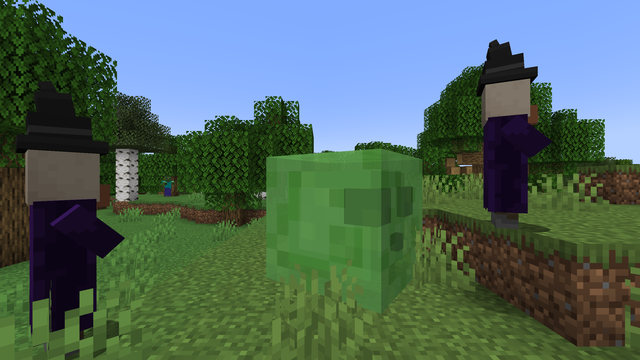slimes: (279, 145, 433, 299)
sorcieres: (10, 141, 117, 356), (468, 73, 544, 229)
zombies: (162, 176, 172, 196)
